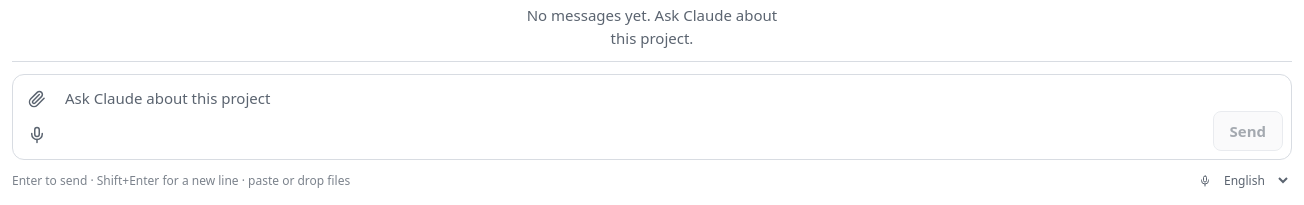
Scenario: ChatPanel dictation › explains a blocked microphone
What coordinates should you click on to do the following:
click the button named "Dictate"
I would click on:
 (37, 135)
Its box is 21,119 -> 53,151.
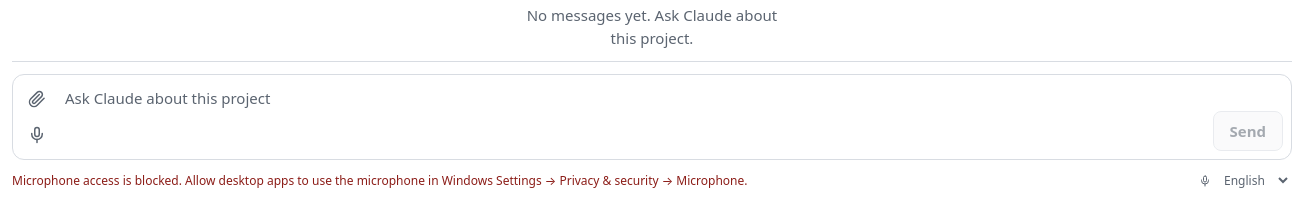
Now the text "Microphone access is blocked" is shown, box 12,172 -> 748,188
